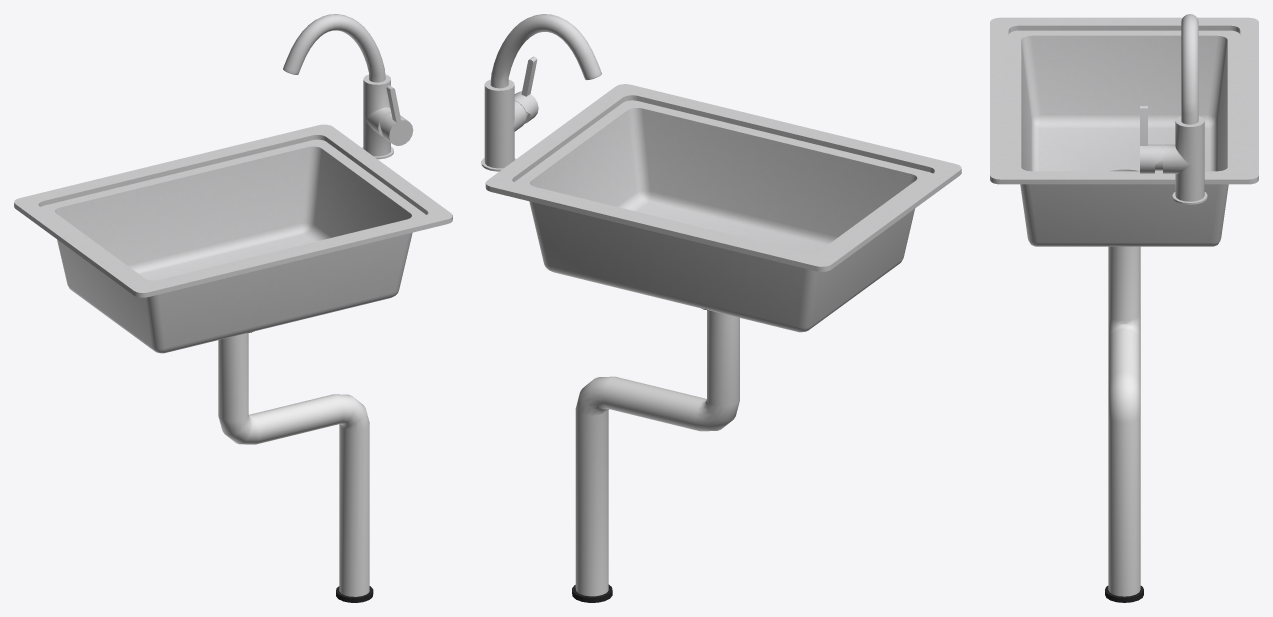
Rendered from Sink01.fbx.
The picture shows the model from 3 angles, left to right: view 1: azimuth 30°, elevation 25°; view 2: azimuth 150°, elevation 25°; view 3: azimuth 270°, elevation 25°; orthographic projection. The views are drawn at different scales.
Parts seen in each view (by area): view 1: Sink01, SinkFaucet01, SinkFaucet01Handle; view 2: Sink01, SinkFaucet01, SinkFaucet01Handle; view 3: Sink01, SinkFaucet01, SinkFaucet01Handle.
Boxes of the visible parts, <box> form: Sink01: <box>14,124,452,602</box>; SinkFaucet01: <box>283,14,393,159</box>; SinkFaucet01Handle: <box>379,85,413,145</box>; Sink01: <box>485,84,961,602</box>; SinkFaucet01: <box>481,14,601,171</box>; SinkFaucet01Handle: <box>514,56,538,123</box>; Sink01: <box>990,17,1258,602</box>; SinkFaucet01: <box>1155,14,1207,204</box>; SinkFaucet01Handle: <box>1140,106,1162,173</box>.
Bounding box in the file's own units: 70.78 × 108 × 45.29.
